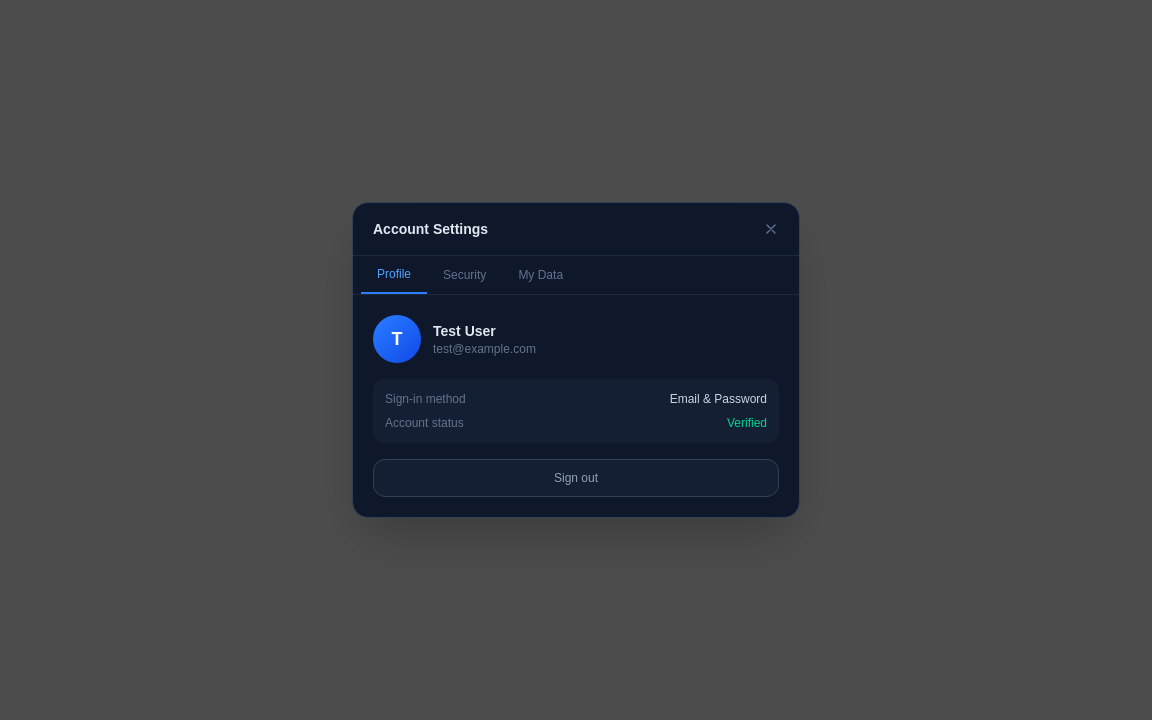
Test: ProfileModal — Security tab (email provider) › shows client-side error when passwords do not match
Click the button "Security": [465, 275] box top-left (427, 256), bottom-right (502, 294)
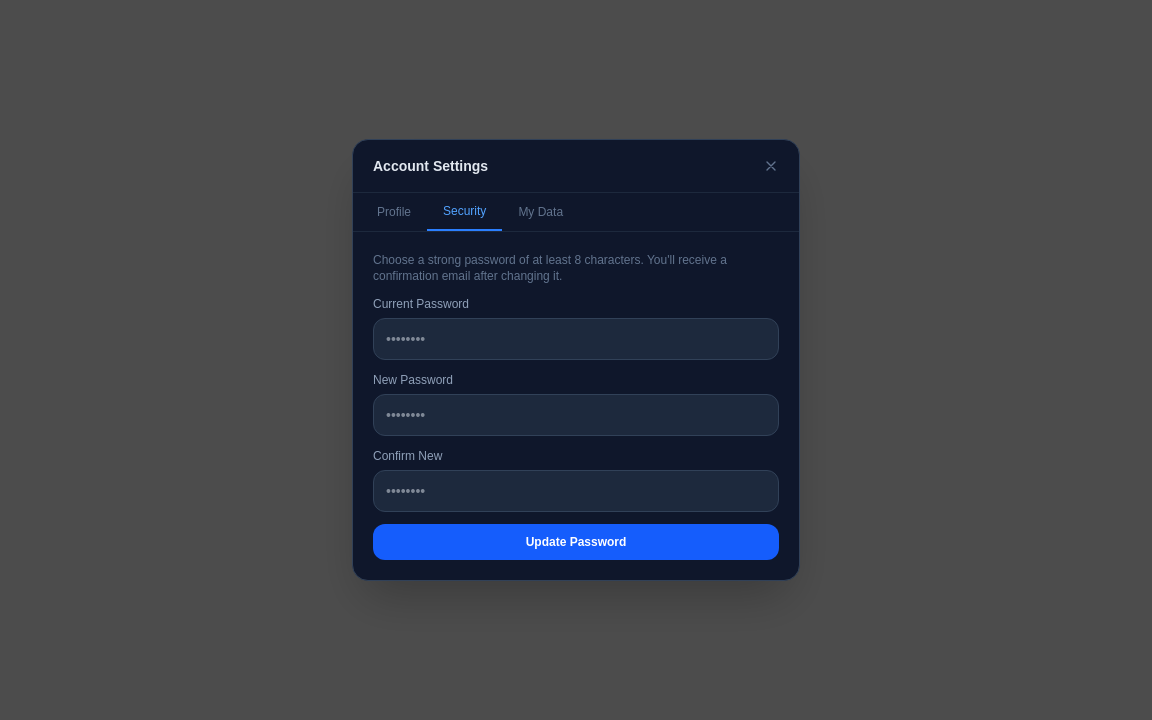
In the password field labelled "Current Password": [576, 339] box top-left (373, 318), bottom-right (779, 360), type "currentpass"
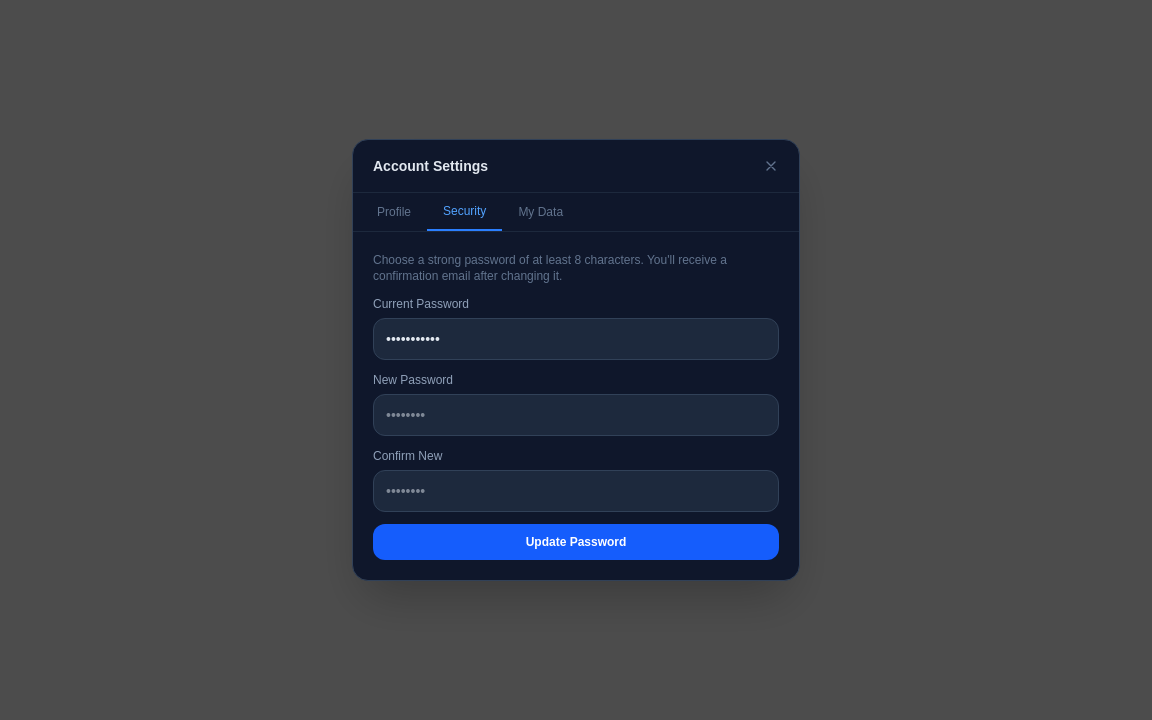
In the password field labelled "New Password": [576, 415] box top-left (373, 394), bottom-right (779, 436), type "longpassword1"
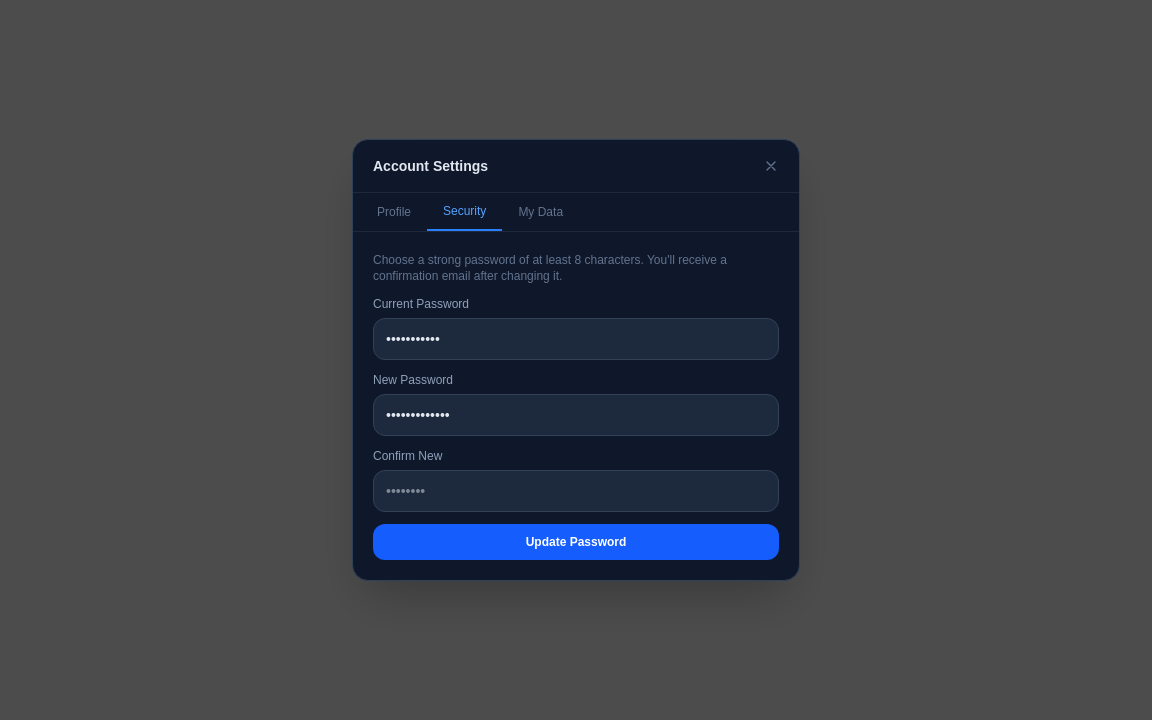
In the password field labelled "Confirm New": [576, 491] box top-left (373, 470), bottom-right (779, 512), type "longpassword2"
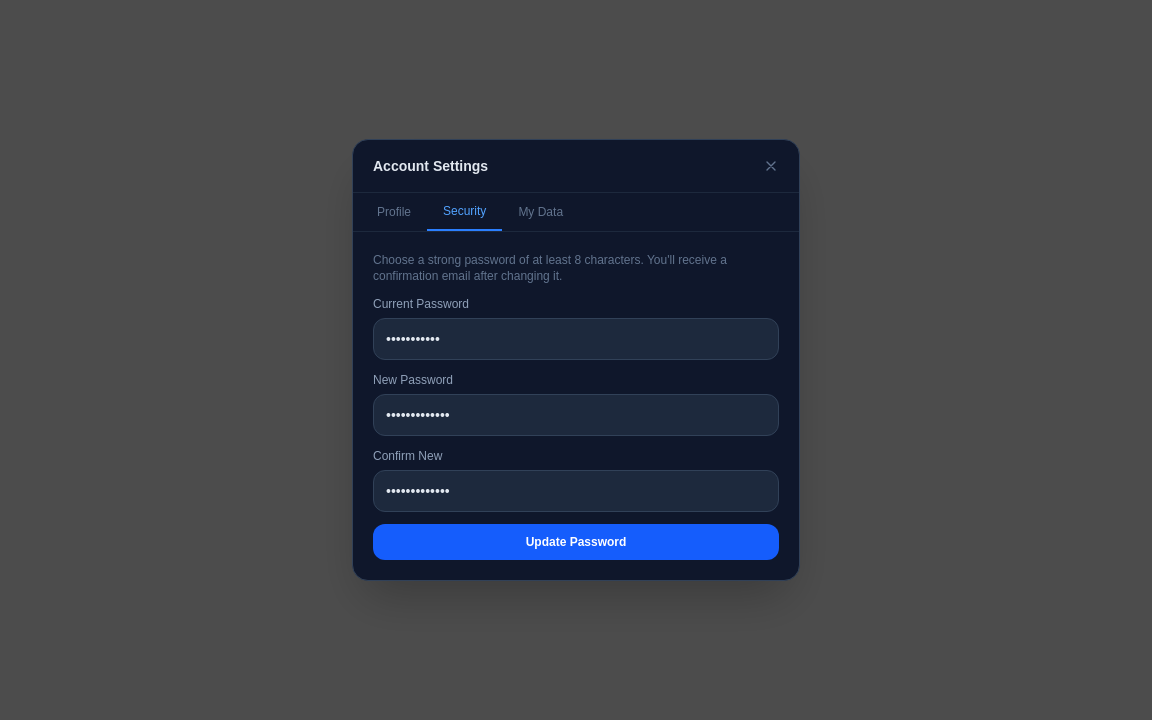
Click the button "Update Password": [576, 542] box top-left (373, 524), bottom-right (779, 560)
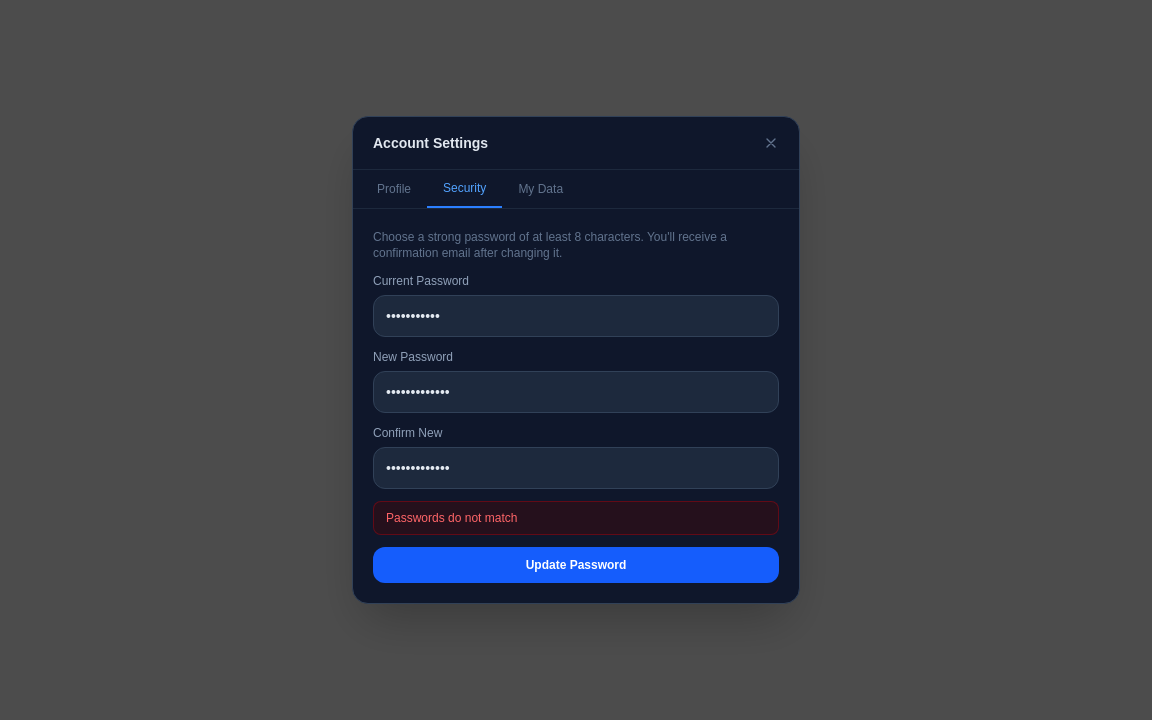
Expected: the text "Passwords do not match" is shown, top-left (373, 501), bottom-right (779, 535)
